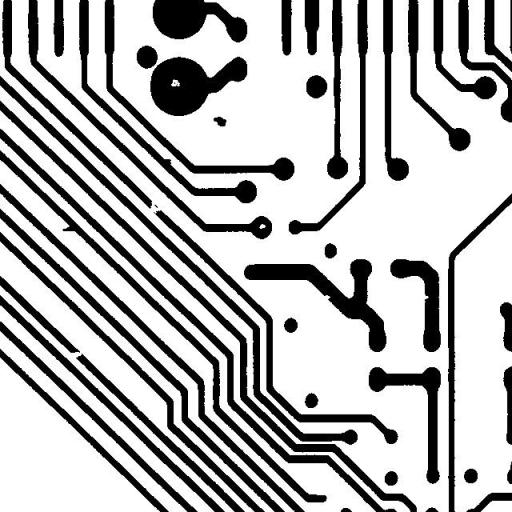copper: (206, 108, 234, 134)
mousebite: (316, 287, 338, 310), (415, 286, 436, 310)
open: (140, 194, 168, 220), (61, 344, 89, 365)
pin-hole: (163, 71, 187, 94), (251, 216, 273, 236)
spur: (54, 218, 86, 238), (150, 151, 178, 172)
